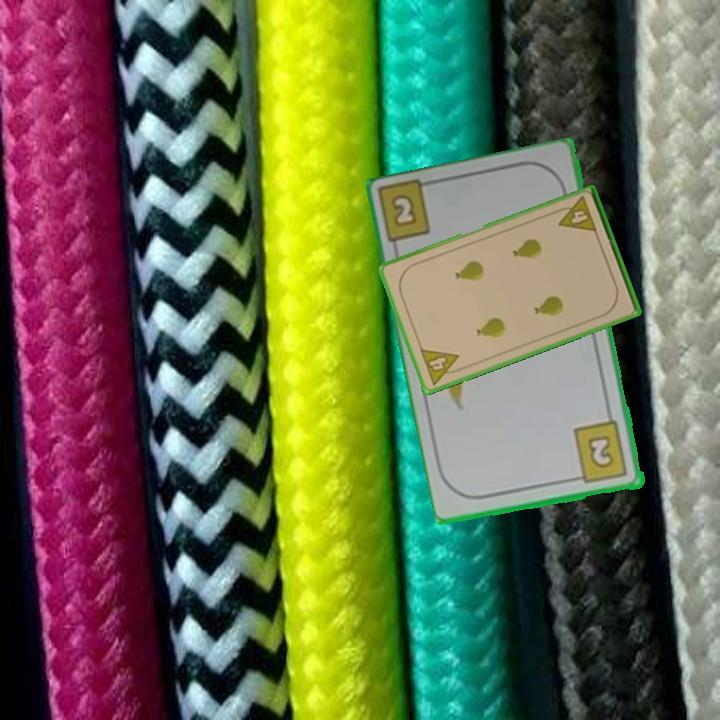2b: (570, 418, 631, 487), (387, 190, 420, 231)
4p: (416, 345, 466, 388), (551, 193, 599, 236)
